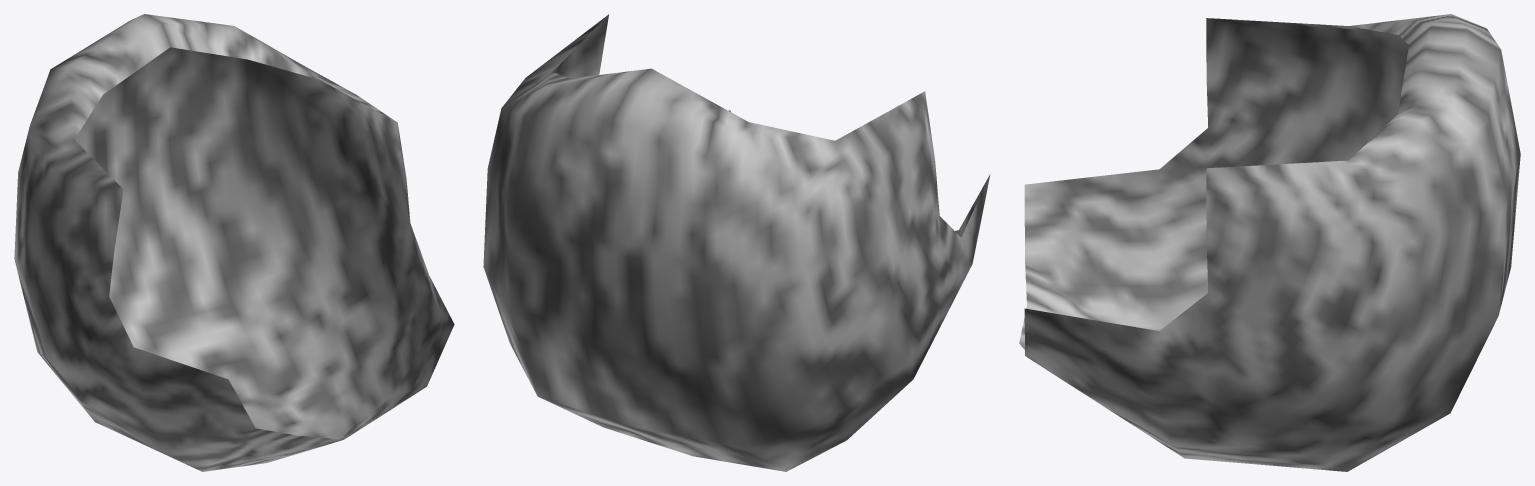
The model's file is Wig_Bob_Hair_GreasedBack.fbx.
The picture shows the model from 3 angles, left to right: view 1: azimuth 30°, elevation 25°; view 2: azimuth 150°, elevation 25°; view 3: azimuth 270°, elevation 25°; orthographic projection. The views are drawn at different scales.
Visible parts, largest first — view 1: BoxOfJars003; view 2: BoxOfJars003; view 3: BoxOfJars003.
Boxes of the visible parts, bbox=[...] form: BoxOfJars003: bbox=[14, 14, 454, 471]; BoxOfJars003: bbox=[483, 14, 990, 471]; BoxOfJars003: bbox=[1019, 14, 1520, 471].
Bounding box in the file's own units: 10.31 × 10.43 × 11.64.
